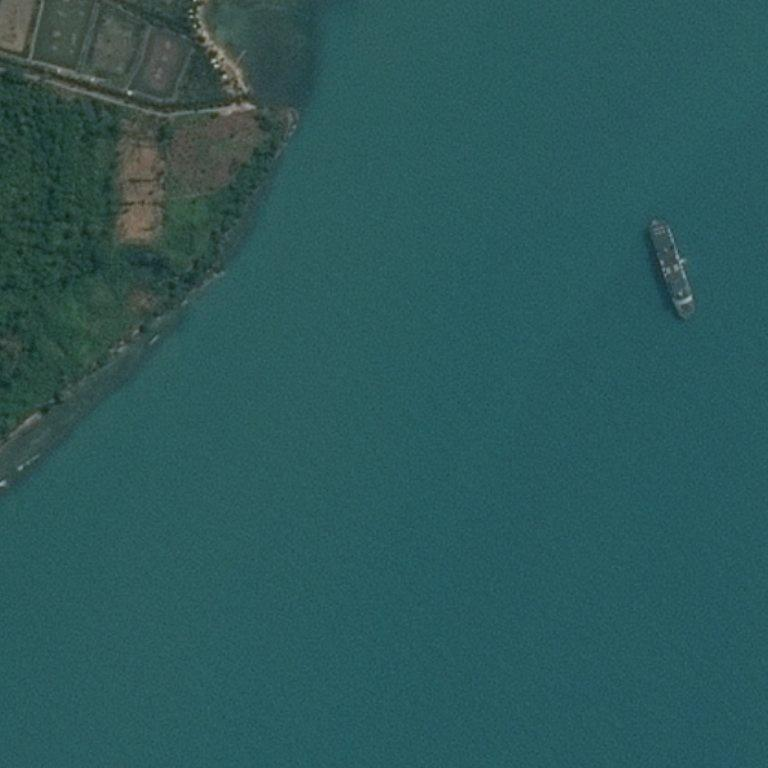ship: (644, 253, 700, 283), (655, 220, 657, 223), (694, 308, 696, 309), (680, 311, 680, 313)
